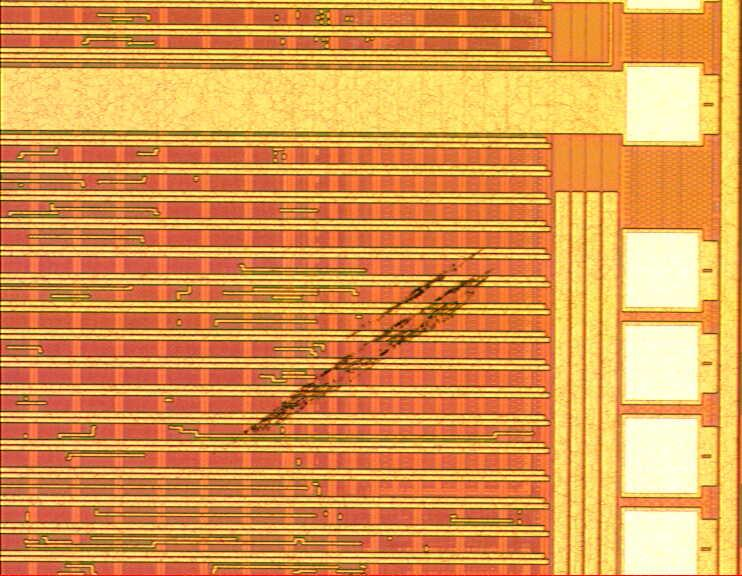SCRATCH: (192, 244, 504, 473)
